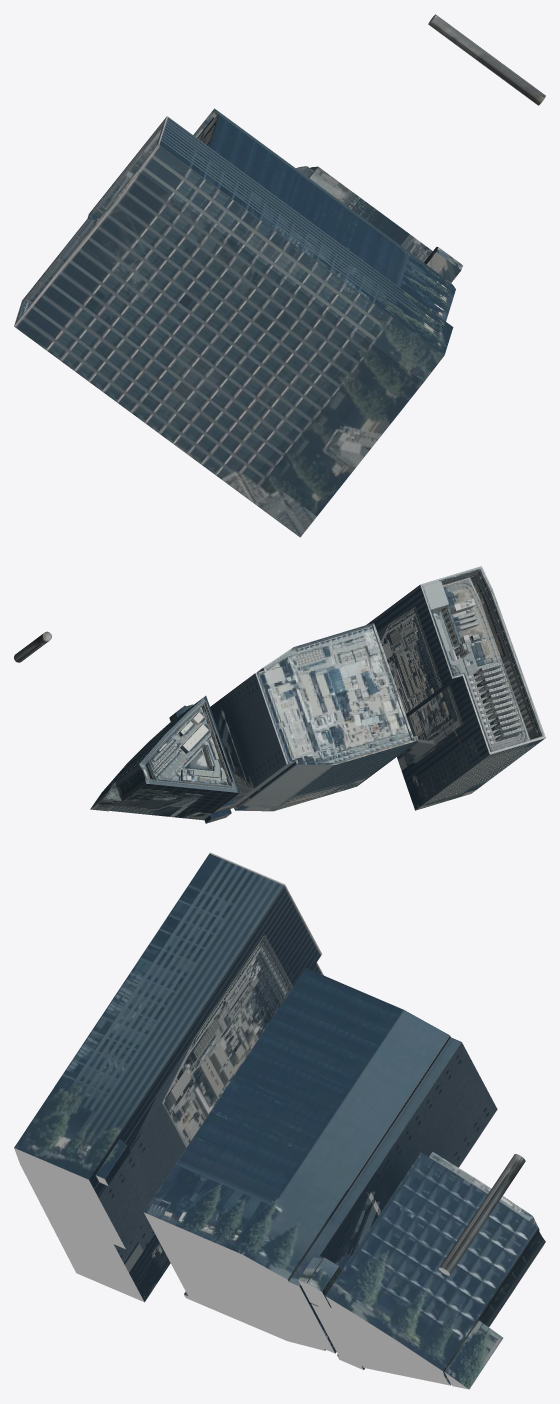
The model's file is data614.glb.
The picture shows the model from 3 angles, top to bottom: view 1: azimuth 30°, elevation 25°; view 2: azimuth 150°, elevation 25°; view 3: azimuth 270°, elevation 25°; orthographic projection. The views are drawn at different scales.
Bounding box in the file's own units: 165 × 95.9 × 119.
Materials: 2 (1 with a texture image).
